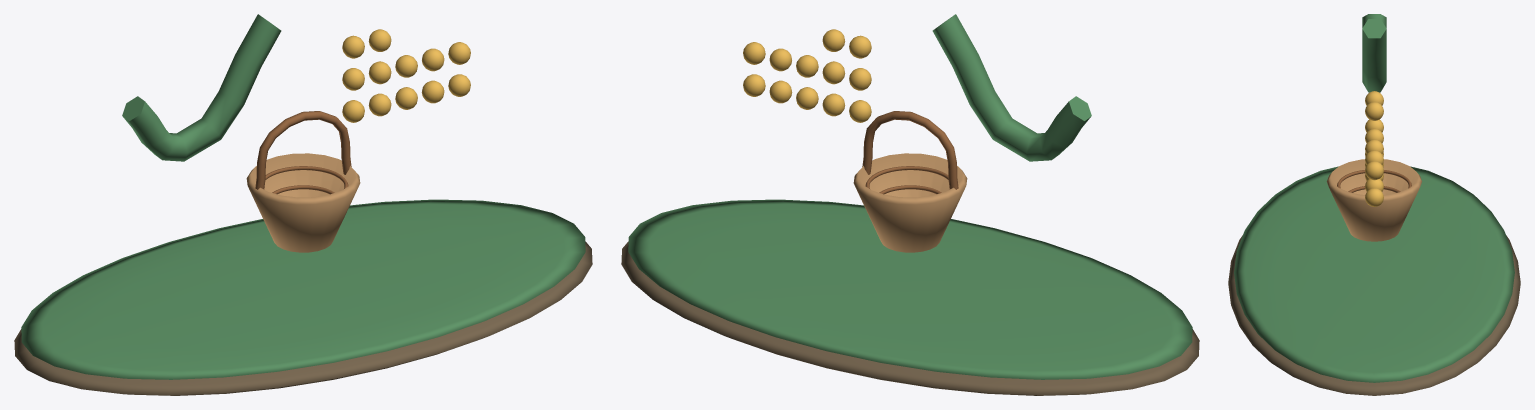
File: complete-second-permitted-many.glb
3 renders of one model, left to right at view 1: azimuth 30°, elevation 25°; view 2: azimuth 150°, elevation 25°; view 3: azimuth 270°, elevation 25°, orthographic. The views are drawn at different scales.
Visible parts, largest first — view 1: complete-second-permitted-many_surface_01, complete-second-permitted-many_surface_00, complete-second-permitted-many_surface_03, complete-second-permitted-many_surface_02, complete-second-permitted-many_surface_04; view 2: complete-second-permitted-many_surface_01, complete-second-permitted-many_surface_00, complete-second-permitted-many_surface_03, complete-second-permitted-many_surface_02, complete-second-permitted-many_surface_04; view 3: complete-second-permitted-many_surface_01, complete-second-permitted-many_surface_00, complete-second-permitted-many_surface_03, complete-second-permitted-many_surface_02, complete-second-permitted-many_surface_04.
Part boxes in pixels (x1,y1,x2,y2): complete-second-permitted-many_surface_01: (21, 14, 585, 379); complete-second-permitted-many_surface_00: (14, 241, 592, 395); complete-second-permitted-many_surface_03: (246, 153, 360, 252); complete-second-permitted-many_surface_02: (342, 29, 470, 122); complete-second-permitted-many_surface_04: (255, 111, 351, 194); complete-second-permitted-many_surface_01: (628, 14, 1192, 379); complete-second-permitted-many_surface_00: (621, 241, 1199, 395); complete-second-permitted-many_surface_03: (853, 153, 967, 252); complete-second-permitted-many_surface_02: (743, 29, 871, 122); complete-second-permitted-many_surface_04: (862, 111, 958, 194); complete-second-permitted-many_surface_01: (1234, 14, 1514, 382); complete-second-permitted-many_surface_00: (1228, 235, 1520, 395); complete-second-permitted-many_surface_03: (1326, 159, 1422, 241); complete-second-permitted-many_surface_02: (1365, 91, 1383, 206); complete-second-permitted-many_surface_04: (1337, 170, 1411, 192).
Bounding box in the file's own units: 4.56 × 2.46 × 2.5.
